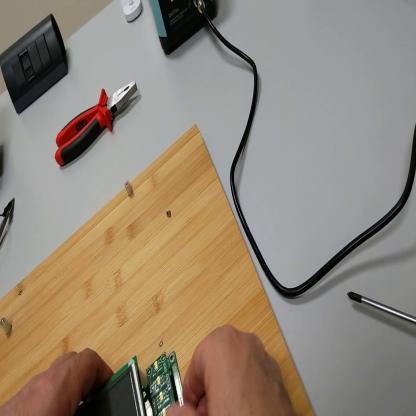hand: (167, 323, 296, 416), (2, 349, 115, 415)
low voltage board: (143, 351, 186, 416)
oscilloscope probe tip: (2, 202, 14, 236)
pliers: (54, 72, 138, 169)
screwdriver-: (345, 291, 416, 326)
welder station: (149, 1, 221, 57)
working area: (1, 125, 316, 414)
